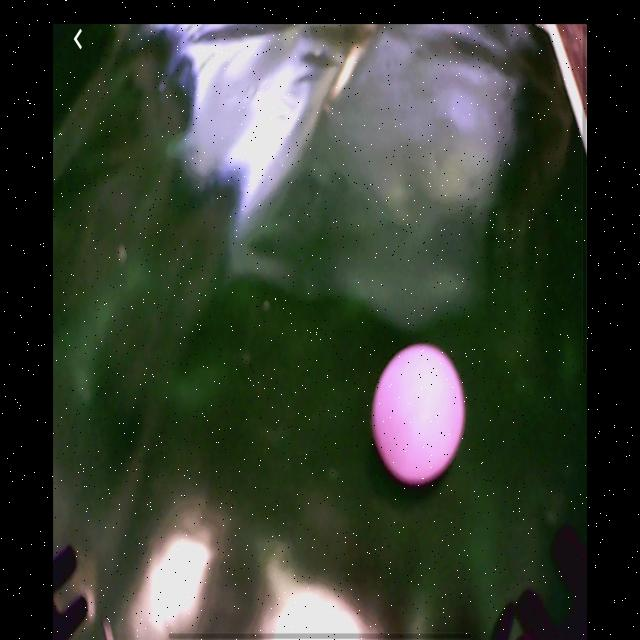ball: (371, 343, 468, 489)
